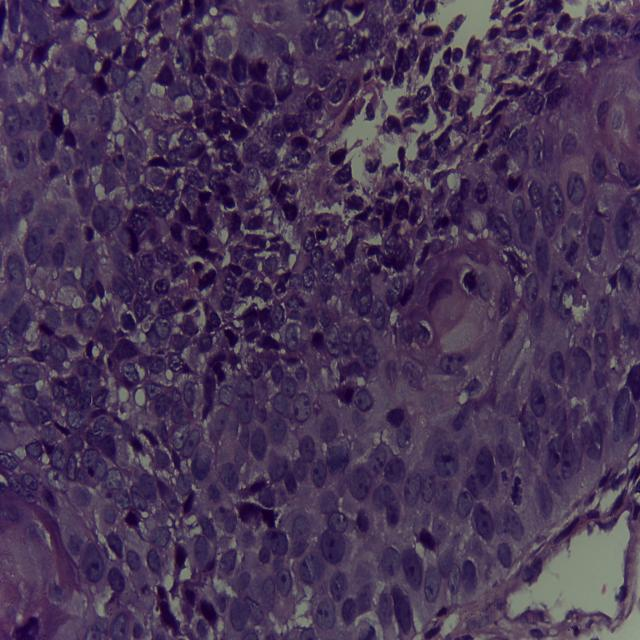Multiple Nucleol: (466, 495, 497, 542), (362, 438, 394, 480), (435, 344, 468, 377), (348, 462, 374, 503), (546, 180, 569, 224), (324, 507, 349, 538)
Nuclear Hyperchromatism: (327, 1, 632, 278), (153, 18, 315, 424)
